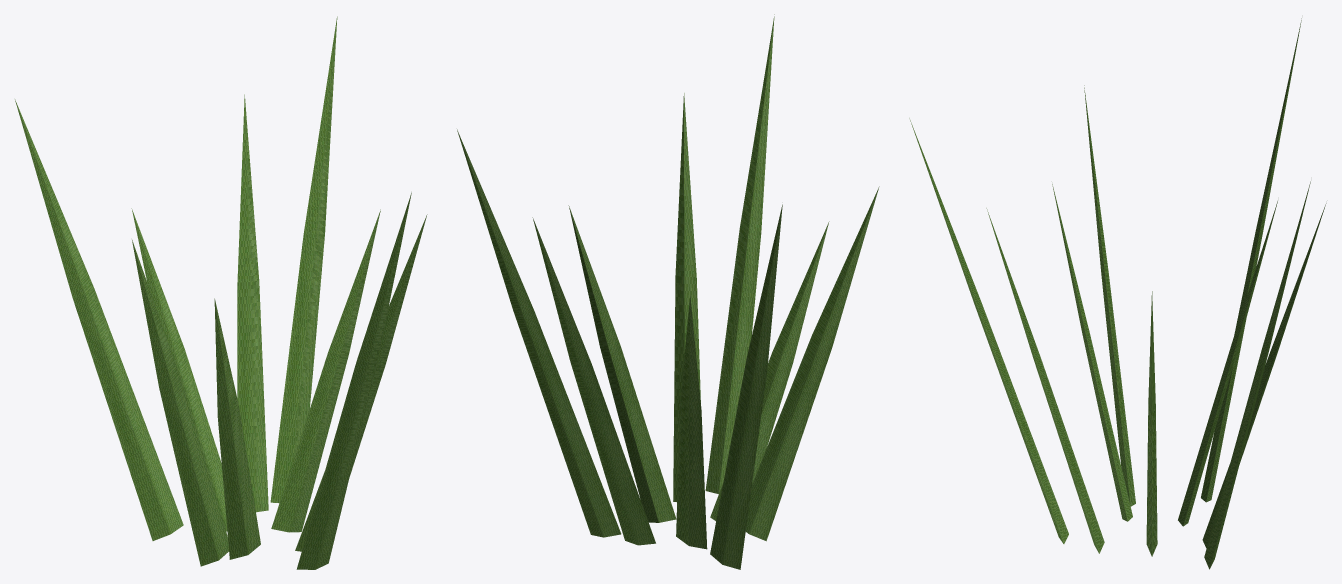
File: feixe_de_junco.glb
3 renders of one model, left to right at view 1: azimuth 30°, elevation 25°; view 2: azimuth 150°, elevation 25°; view 3: azimuth 270°, elevation 25°, orthographic. The views are drawn at different scales.
Parts seen in each view (by area): view 1: feixe_de_junco; view 2: feixe_de_junco; view 3: feixe_de_junco.
Boxes of the visible parts, box(x1,y1,x2,y2) form: feixe_de_junco: box(15, 16, 427, 569); feixe_de_junco: box(457, 14, 879, 569); feixe_de_junco: box(909, 18, 1326, 569).
Size of the model in its own units: 0.8575 by 1.08 by 0.938.
Materials: 1 (1 with a texture image).
